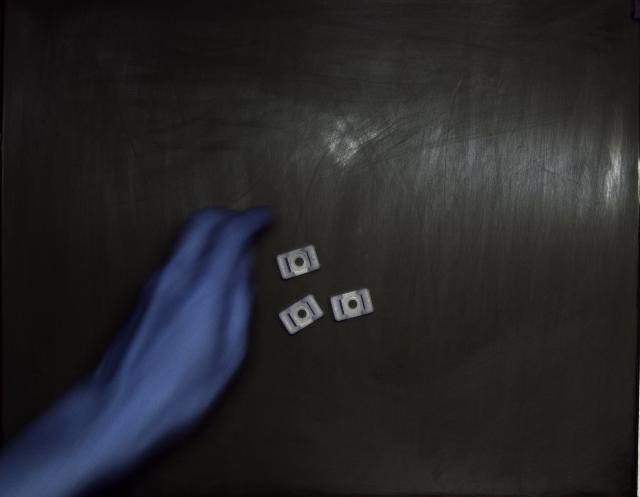first_side: (279, 295, 324, 335), (276, 245, 320, 280), (330, 289, 374, 321)
